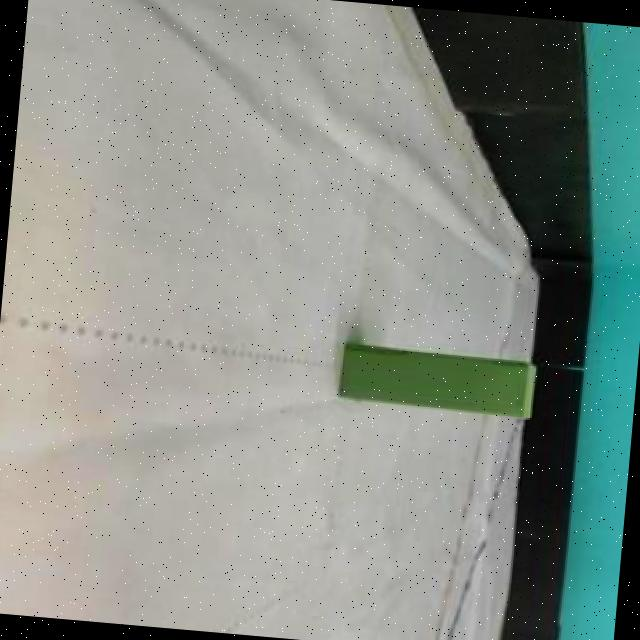greenbox: (334, 342, 537, 421)
